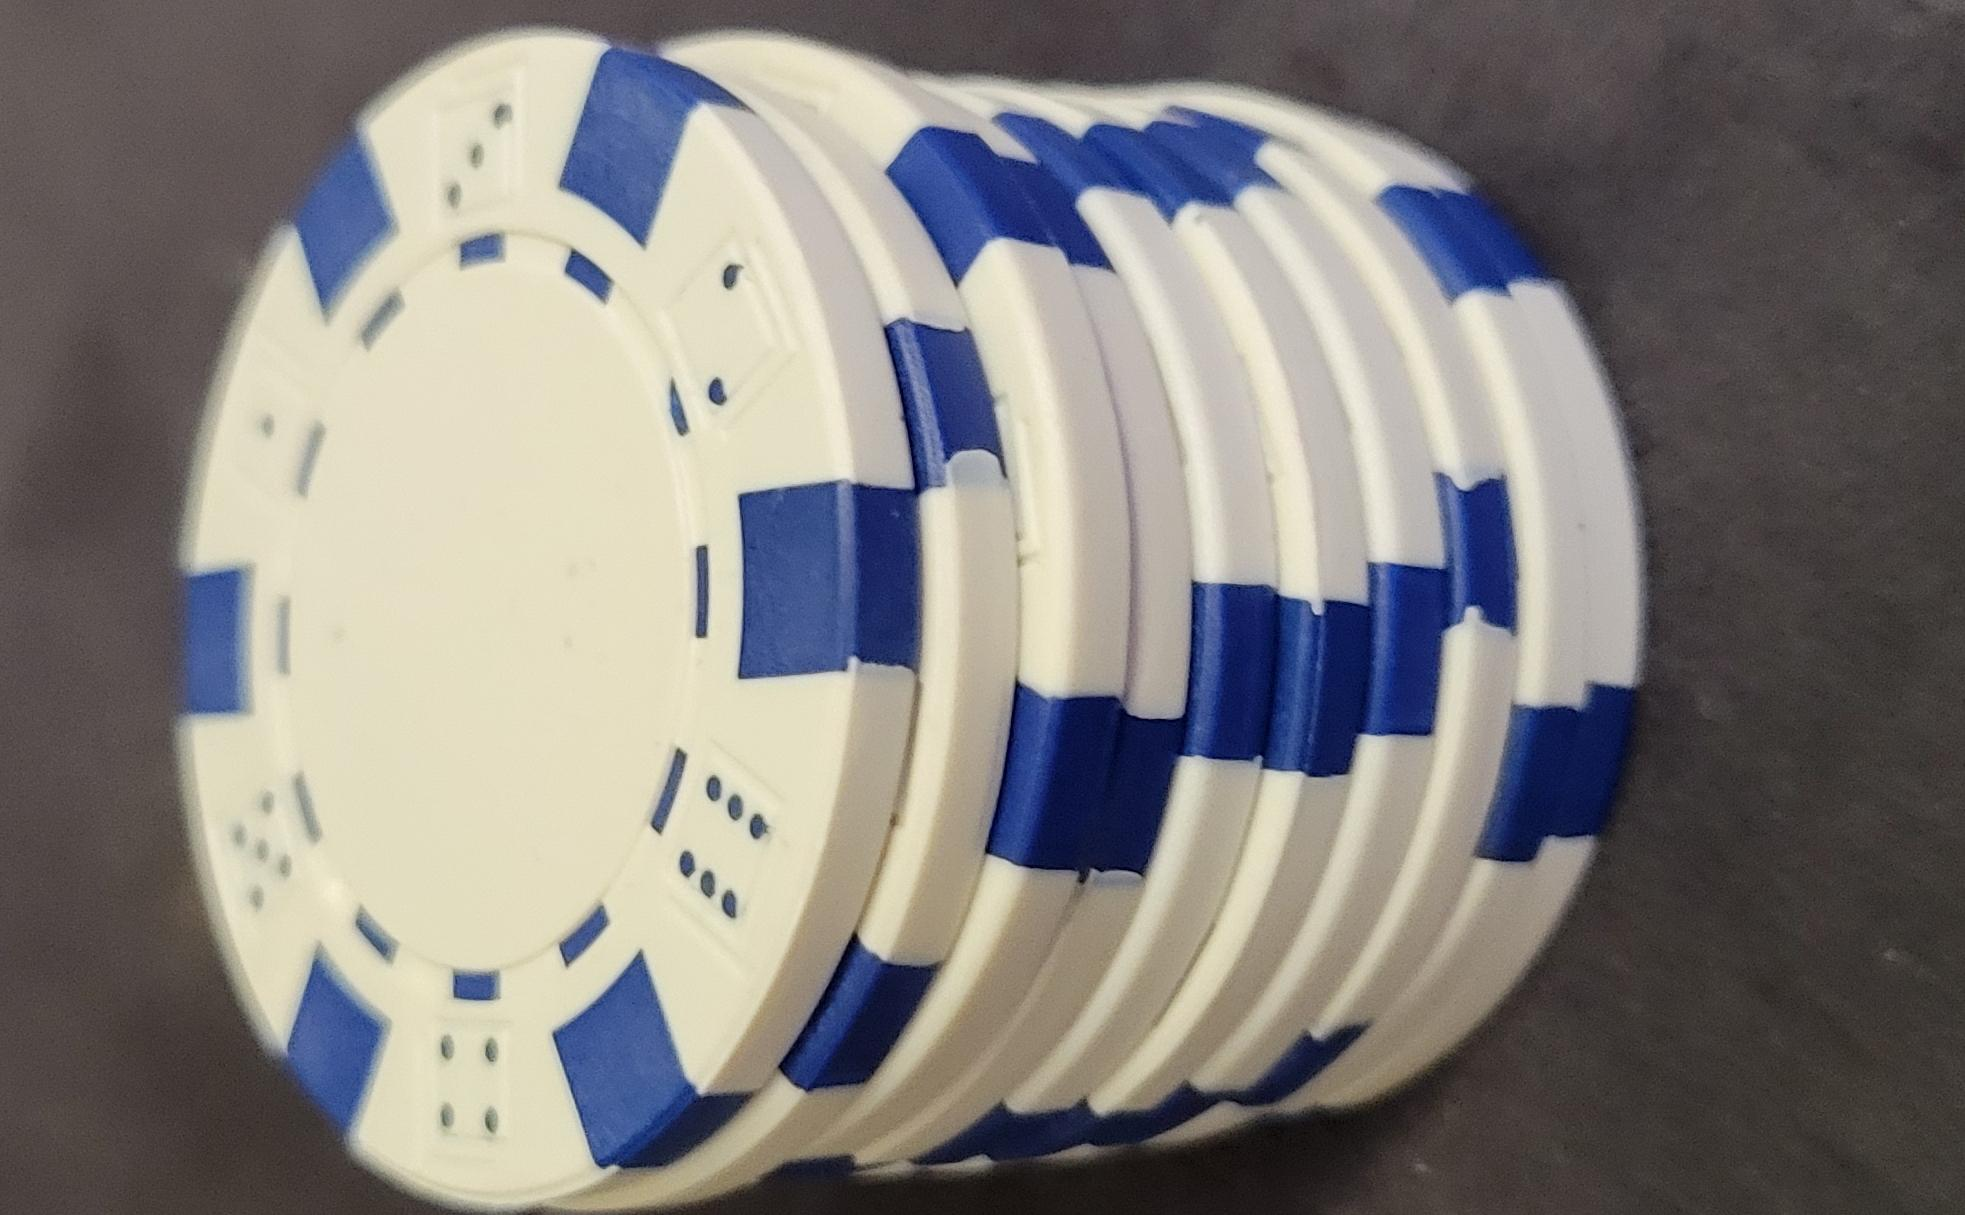Chip: (1, 285, 1206, 1215)
